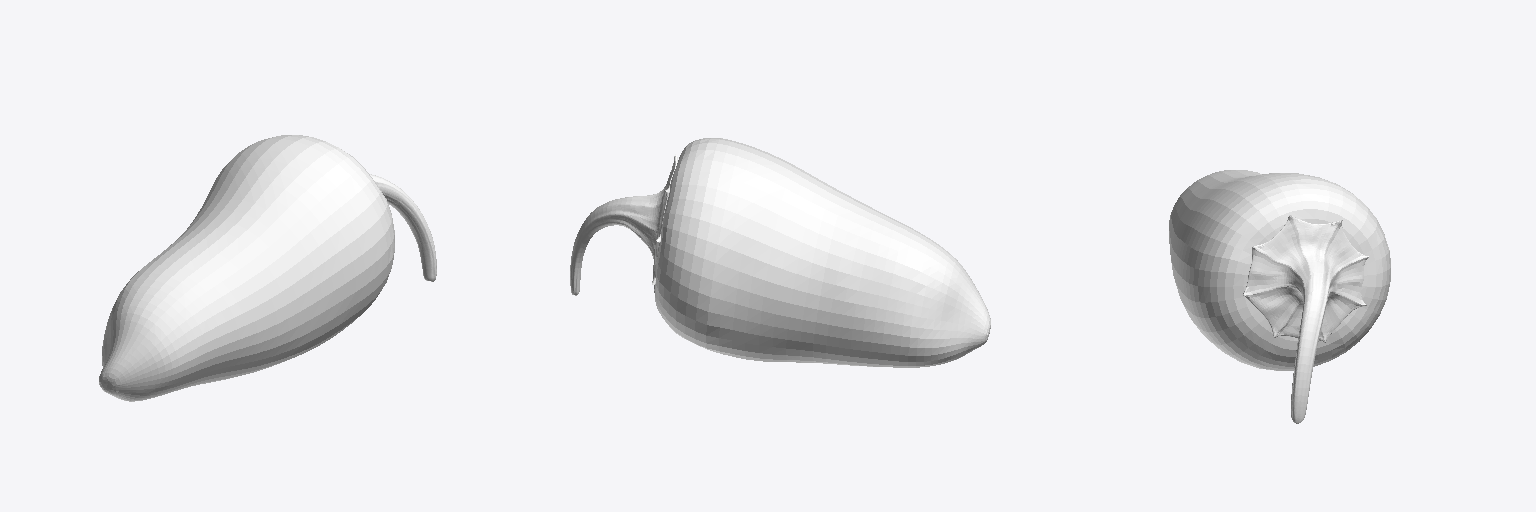
The model's file is Jalapeno_Pepper_final.obj.
The picture shows the model from 3 angles: view 1: azimuth 30°, elevation 25°; view 2: azimuth 150°, elevation 25°; view 3: azimuth 270°, elevation 25°; orthographic projection.
Visible parts, largest first — view 1: Jalapeno_pivot; view 2: Jalapeno_pivot; view 3: Jalapeno_pivot.
Boxes of the visible parts, <box> form: Jalapeno_pivot: <box>99,135,436,401</box>; Jalapeno_pivot: <box>570,138,990,367</box>; Jalapeno_pivot: <box>1169,170,1390,423</box>.
Size of the model in its own units: 2.01 by 1.01 by 1.03.